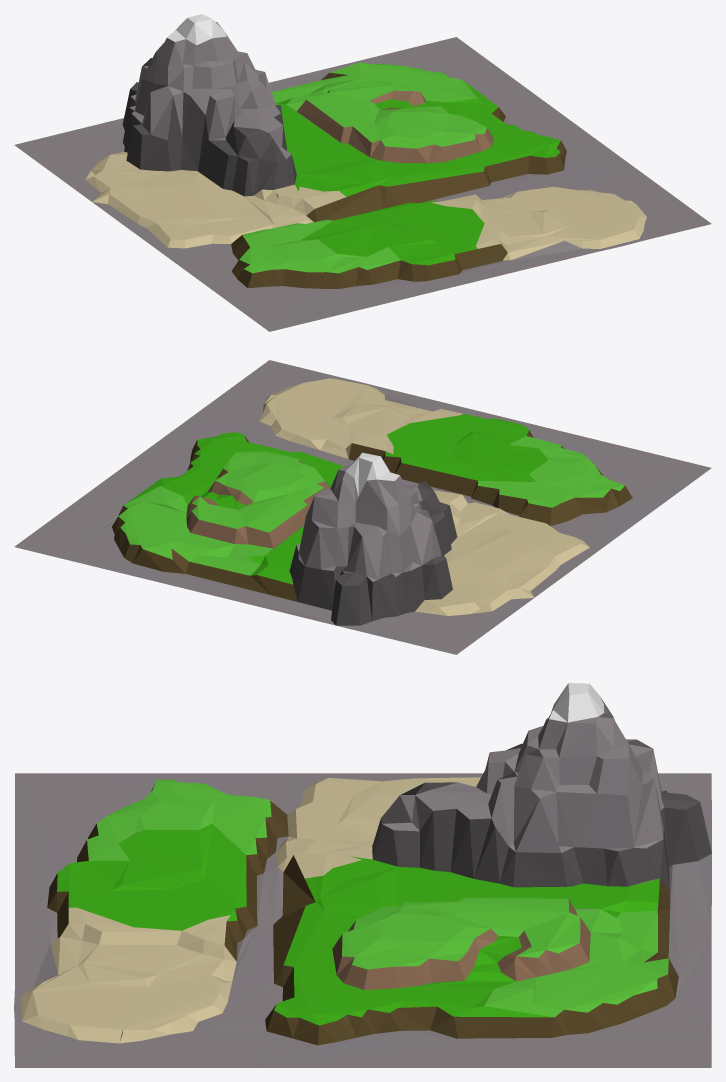
Rendered from islandv1.fbx.
The picture shows the model from 3 angles, top to bottom: view 1: azimuth 30°, elevation 25°; view 2: azimuth 150°, elevation 25°; view 3: azimuth 270°, elevation 25°; orthographic projection. The views are drawn at different scales.
Visible parts, largest first — view 1: Plane; view 2: Plane; view 3: Plane.
Boxes of the visible parts, x1,y1,x2,y2 form: Plane: [14, 14, 711, 331]; Plane: [14, 360, 711, 654]; Plane: [14, 683, 711, 1067].
Bounding box in the file's own units: 6001 × 1698 × 6009.
